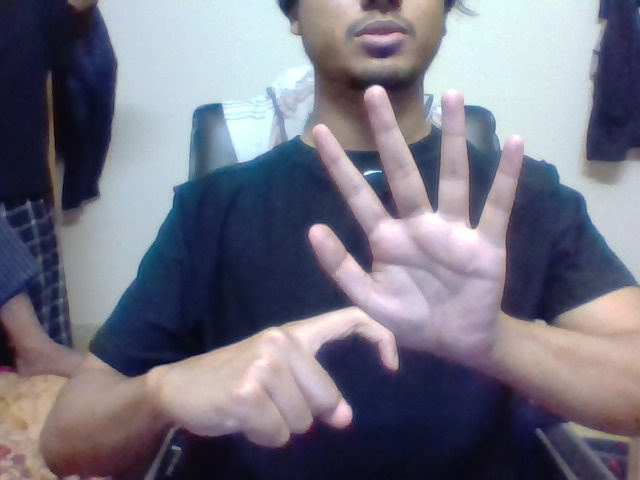R: (278, 297, 400, 426)
